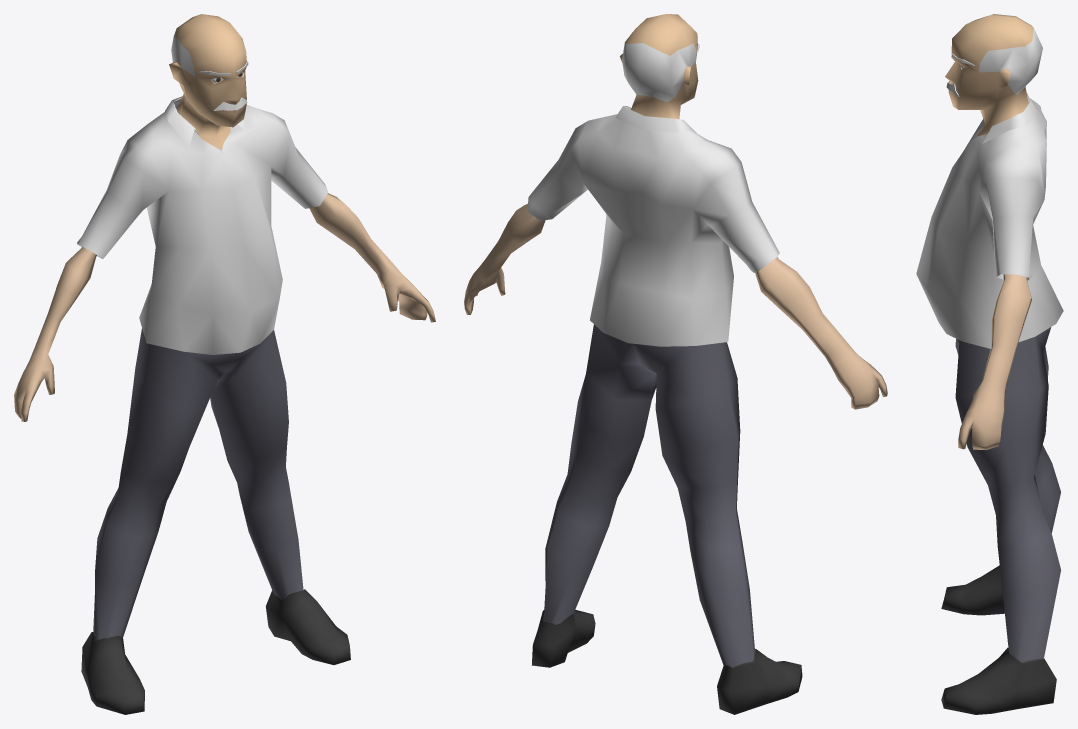
File: opp_rich_run.fbx
The picture shows the model from 3 angles, left to right: view 1: azimuth 30°, elevation 25°; view 2: azimuth 150°, elevation 25°; view 3: azimuth 270°, elevation 25°; orthographic projection. The views are drawn at different scales.
Parts seen in each view (by area): view 1: polySurface20, polySurface4, polySurface14, polySurface12; view 2: polySurface20, polySurface4, polySurface14, polySurface12; view 3: polySurface20, polySurface4, polySurface12, polySurface14.
Boxes of the visible parts, left/top/right/bottom form: polySurface20: left=77, top=14, right=328, bottom=354; polySurface4: left=93, top=328, right=303, bottom=640; polySurface14: left=14, top=193, right=435, bottom=421; polySurface12: left=81, top=589, right=350, bottom=714; polySurface20: left=527, top=14, right=779, bottom=346; polySurface4: left=543, top=324, right=754, bottom=667; polySurface14: left=464, top=204, right=887, bottom=409; polySurface12: left=531, top=610, right=802, bottom=714; polySurface20: left=916, top=14, right=1063, bottom=348; polySurface4: left=955, top=327, right=1060, bottom=662; polySurface12: left=941, top=565, right=1056, bottom=714; polySurface14: left=958, top=274, right=1031, bottom=449.
Size of the model in its own units: 11.76 by 17.65 by 3.69.
